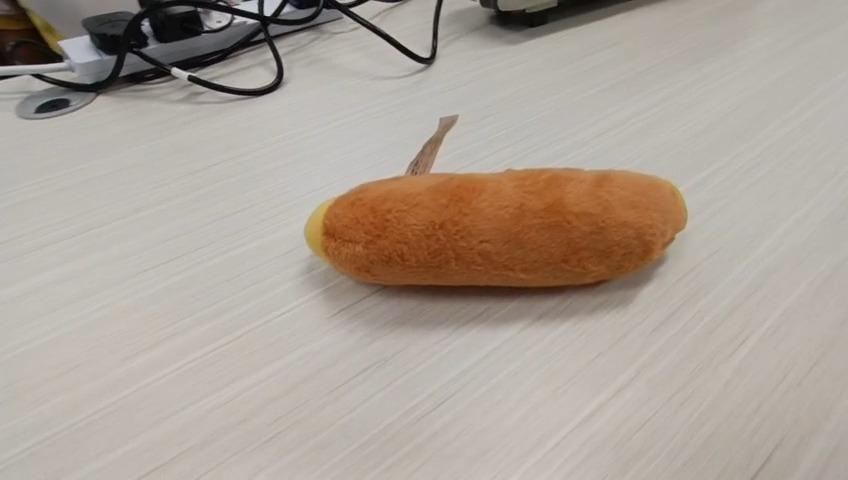hotdog: (304, 112, 690, 287)
